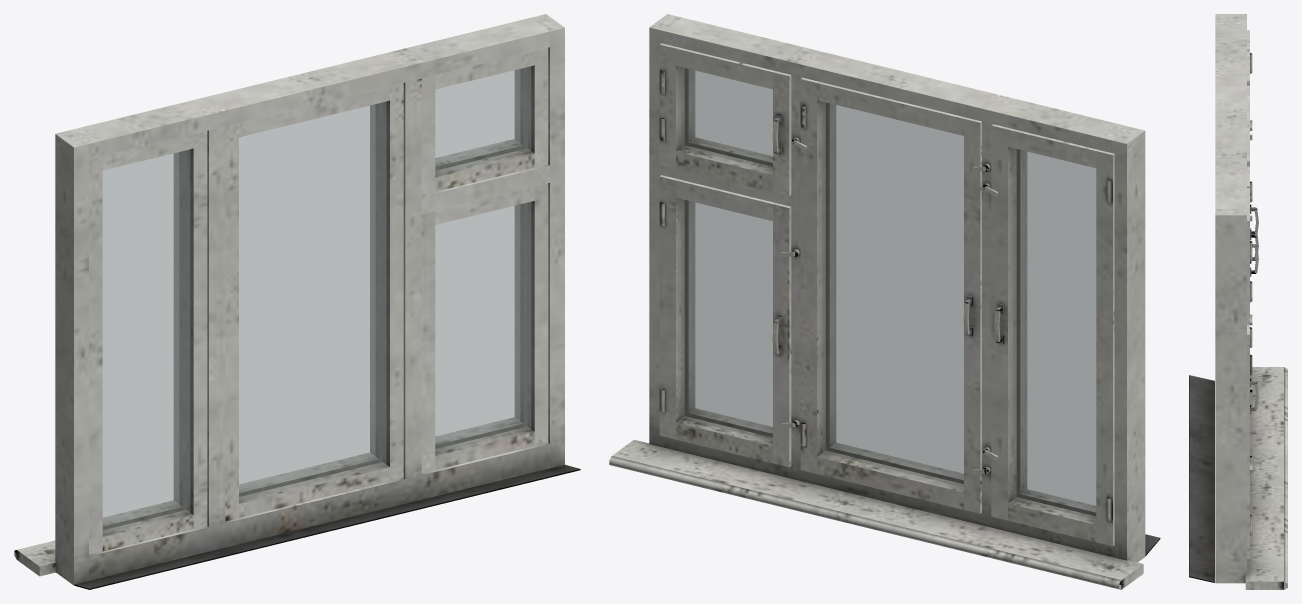
File: win_3_fort_left_lod1_web.glb
3 views of the same model, side by side, from view 1: azimuth 30°, elevation 25°; view 2: azimuth 150°, elevation 25°; view 3: azimuth 270°, elevation 25° (orthographic). The views are drawn at different scales.
Visible parts, largest first — view 1: Win3FortLeft_Body, Glass_Sash_C_out, Glass_Sash_C_in, Glass_Sash_R_out, Glass_Sash_R_in, Sash_C_Mesh, Sash_R_Mesh, Glass_Sash_L_out, Glass_Sash_L_in, Sash_L_Mesh, Fort_L_Mesh, Glass_Fort_L_out (+1 smaller); view 2: Win3FortLeft_Body, Glass_Sash_C_in, Glass_Sash_C_out, Glass_Sash_R_in, Sash_C_Mesh, Sash_R_Mesh, Glass_Sash_R_out, Glass_Sash_L_in, Sash_L_Mesh, Glass_Sash_L_out, Fort_L_Mesh, Glass_Fort_L_in (+1 smaller); view 3: Win3FortLeft_Body, Sash_L_Mesh, Fort_L_Mesh, Sash_C_Mesh, Sash_R_Mesh.
Boxes of the visible parts, x1,y1,x2,y2 form: Win3FortLeft_Body: (14, 14, 580, 589); Glass_Sash_C_out: (239, 102, 386, 500); Glass_Sash_C_in: (239, 104, 374, 489); Glass_Sash_R_out: (103, 149, 189, 533); Glass_Sash_R_in: (103, 152, 178, 522); Sash_C_Mesh: (225, 83, 403, 521); Sash_R_Mesh: (89, 131, 207, 554); Glass_Sash_L_out: (435, 202, 530, 452); Glass_Sash_L_in: (435, 205, 519, 441); Sash_L_Mesh: (421, 183, 548, 473); Fort_L_Mesh: (421, 47, 548, 194); Glass_Fort_L_out: (435, 66, 530, 173); Win3FortLeft_Body: (609, 14, 1160, 589); Glass_Sash_C_in: (822, 102, 963, 486); Glass_Sash_C_out: (833, 104, 963, 476); Glass_Sash_R_in: (1013, 148, 1095, 519); Sash_C_Mesh: (800, 77, 981, 513); Sash_R_Mesh: (991, 124, 1114, 546); Glass_Sash_R_out: (1024, 151, 1095, 508); Glass_Sash_L_in: (681, 199, 772, 440); Sash_L_Mesh: (659, 175, 791, 467); Glass_Sash_L_out: (692, 202, 772, 429); Fort_L_Mesh: (659, 43, 791, 196); Glass_Fort_L_in: (681, 67, 772, 169); Win3FortLeft_Body: (1189, 14, 1287, 589); Sash_L_Mesh: (1247, 325, 1258, 558); Fort_L_Mesh: (1247, 166, 1258, 324); Sash_C_Mesh: (1247, 86, 1258, 476); Sash_R_Mesh: (1247, 30, 1258, 347).
Size of the model in its own units: 1.92 by 1.54 by 0.3742.
2 materials, 1 textured.
